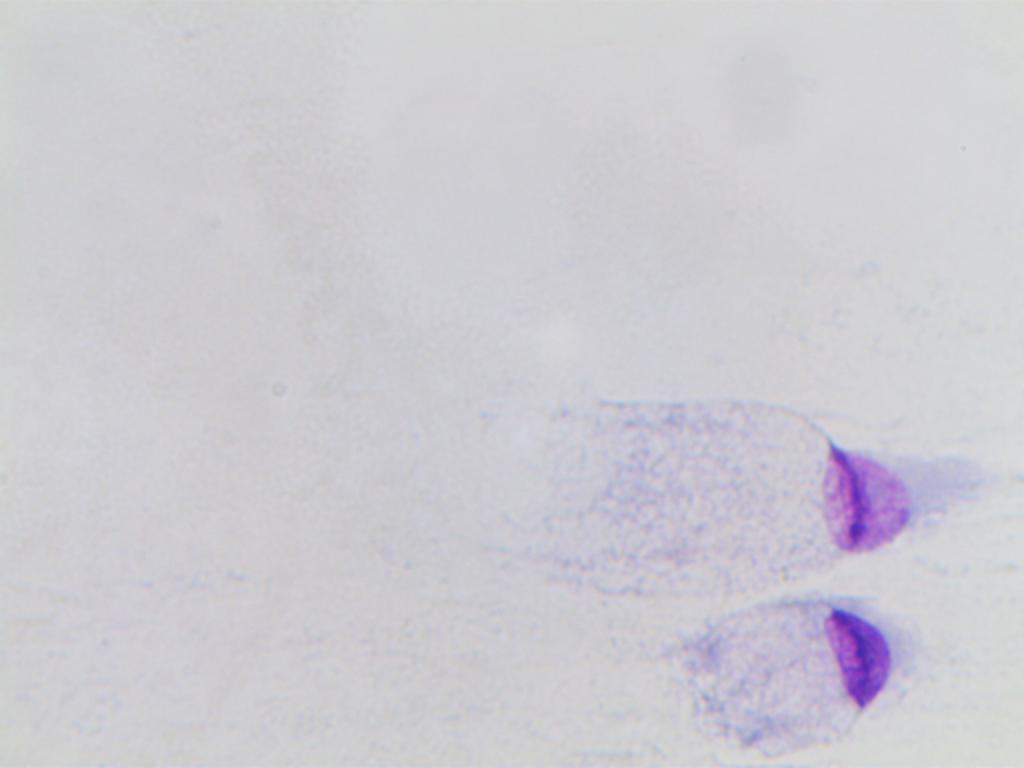goblet_cell: (561, 405, 956, 575), (673, 588, 906, 761)
